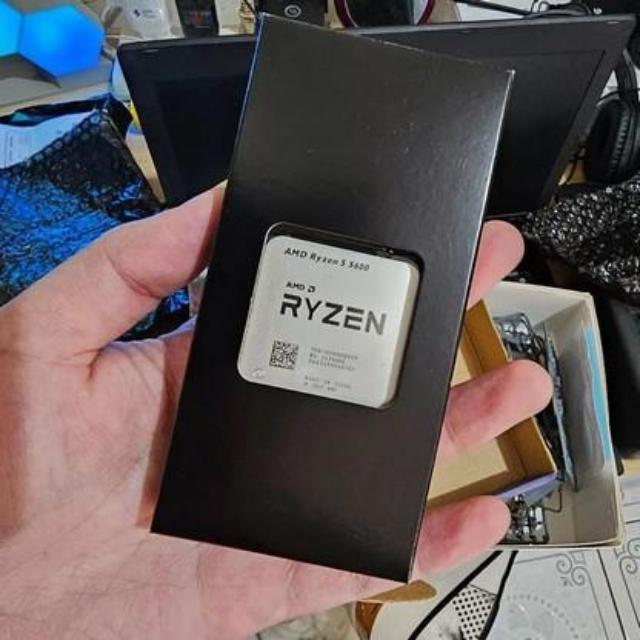CPU: (234, 238, 423, 414)
